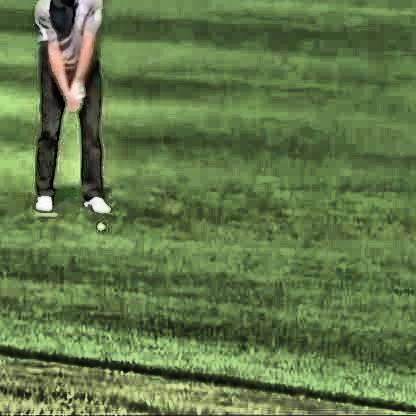golfball: (94, 217, 104, 228)
